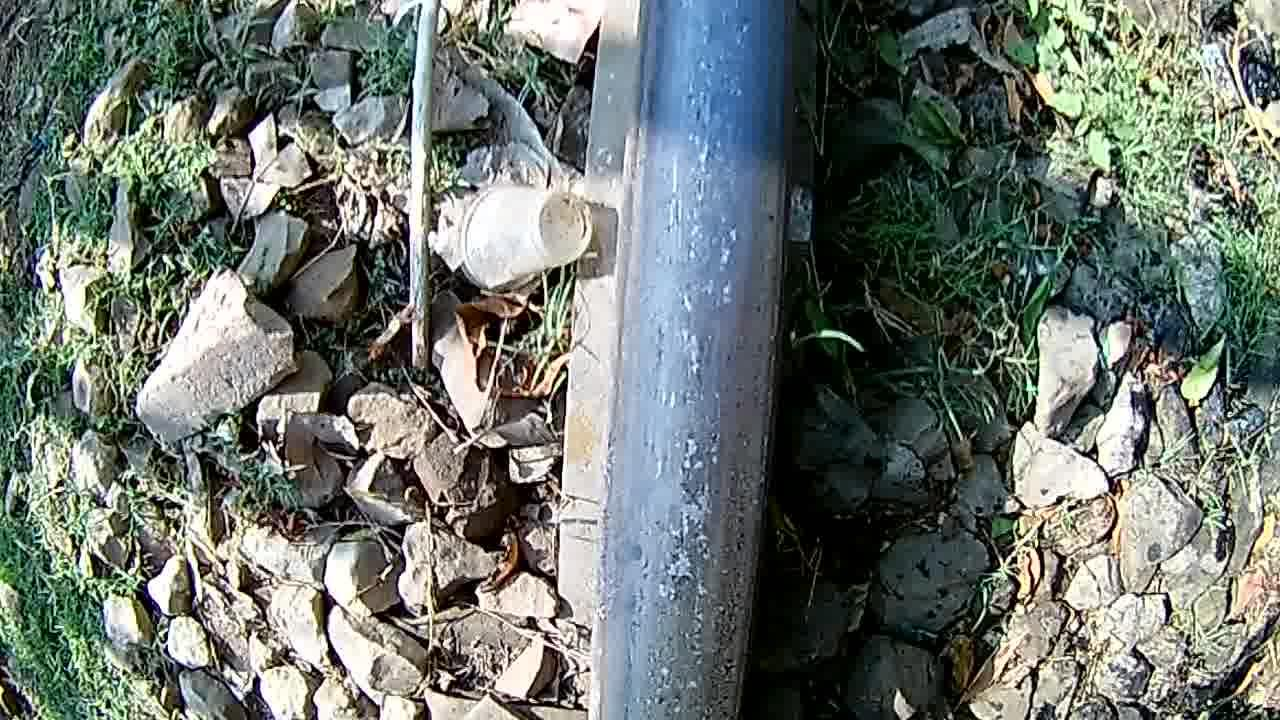clip_missing: (588, 0, 797, 720)
